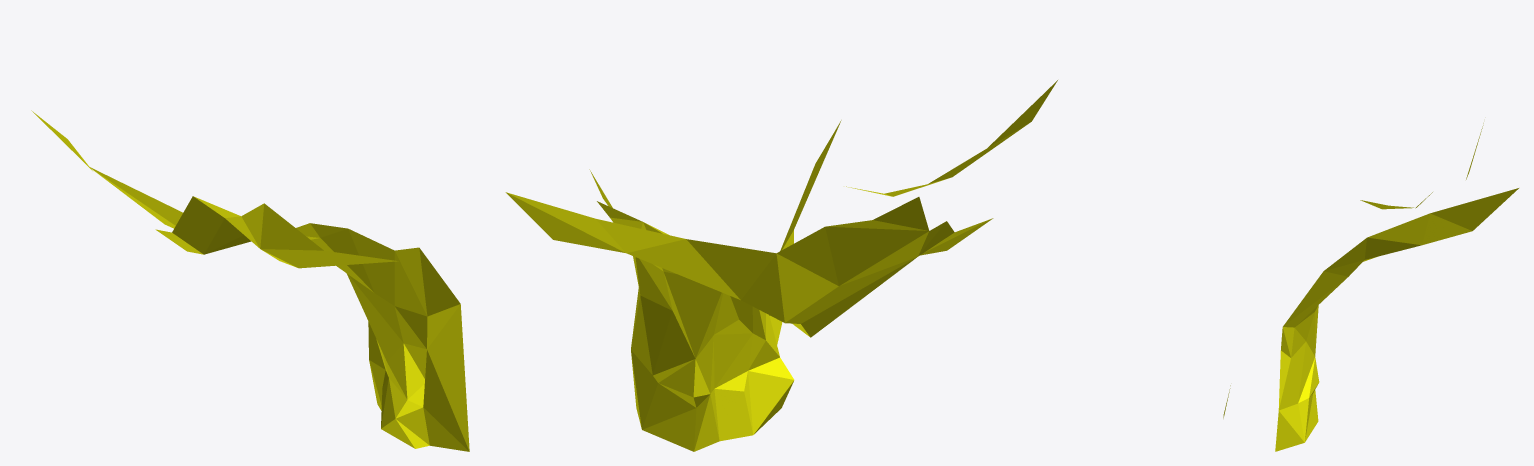
File: cliff_coner_01_lod_01.glb
3 views of the same model, side by side, from view 1: azimuth 30°, elevation 25°; view 2: azimuth 150°, elevation 25°; view 3: azimuth 270°, elevation 25° (orthographic). The views are drawn at different scales.
Parts seen in each view (by area): view 1: cliff_coner_01; view 2: cliff_coner_01; view 3: cliff_coner_01.
Boxes of the visible parts, x1,y1,x2,y2 form: cliff_coner_01: (31,110,469,451); cliff_coner_01: (505,80,1057,451); cliff_coner_01: (1223,123,1518,451).
Size of the model in its own units: 99.55 by 90.8 by 110.
Materials: 1 (1 with a texture image).
